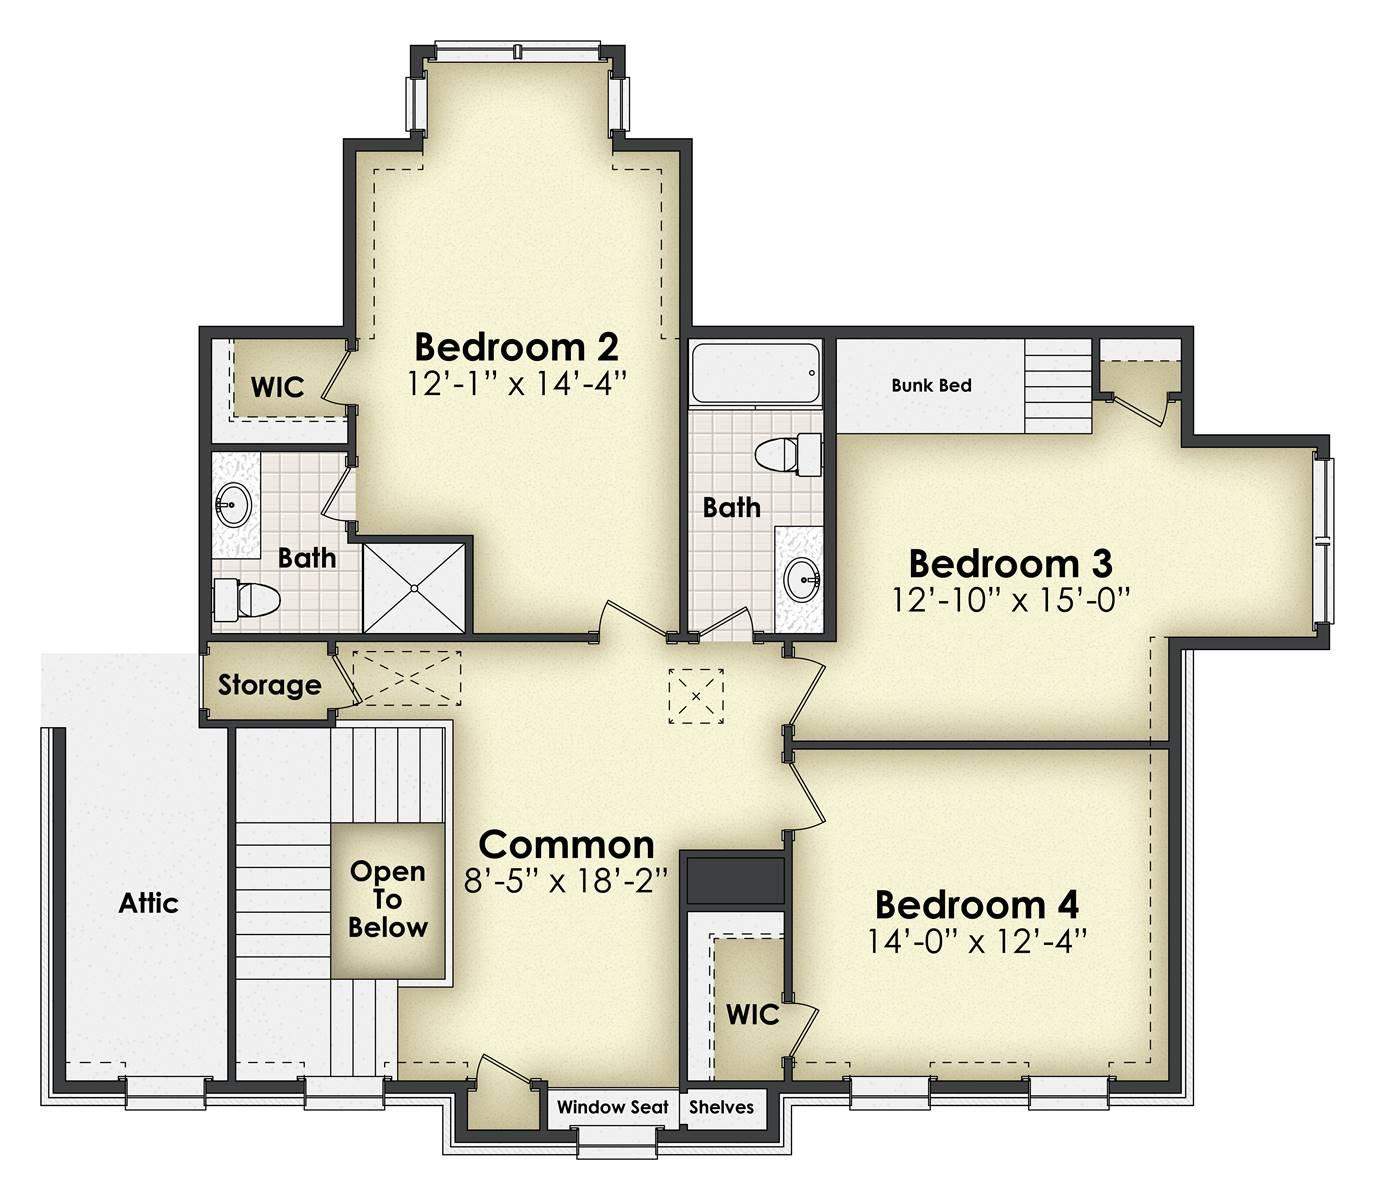room: (830, 327, 1332, 744), (348, 40, 687, 632), (787, 740, 1176, 1089), (684, 332, 830, 636), (209, 447, 362, 634), (207, 332, 351, 447), (207, 639, 331, 719)
